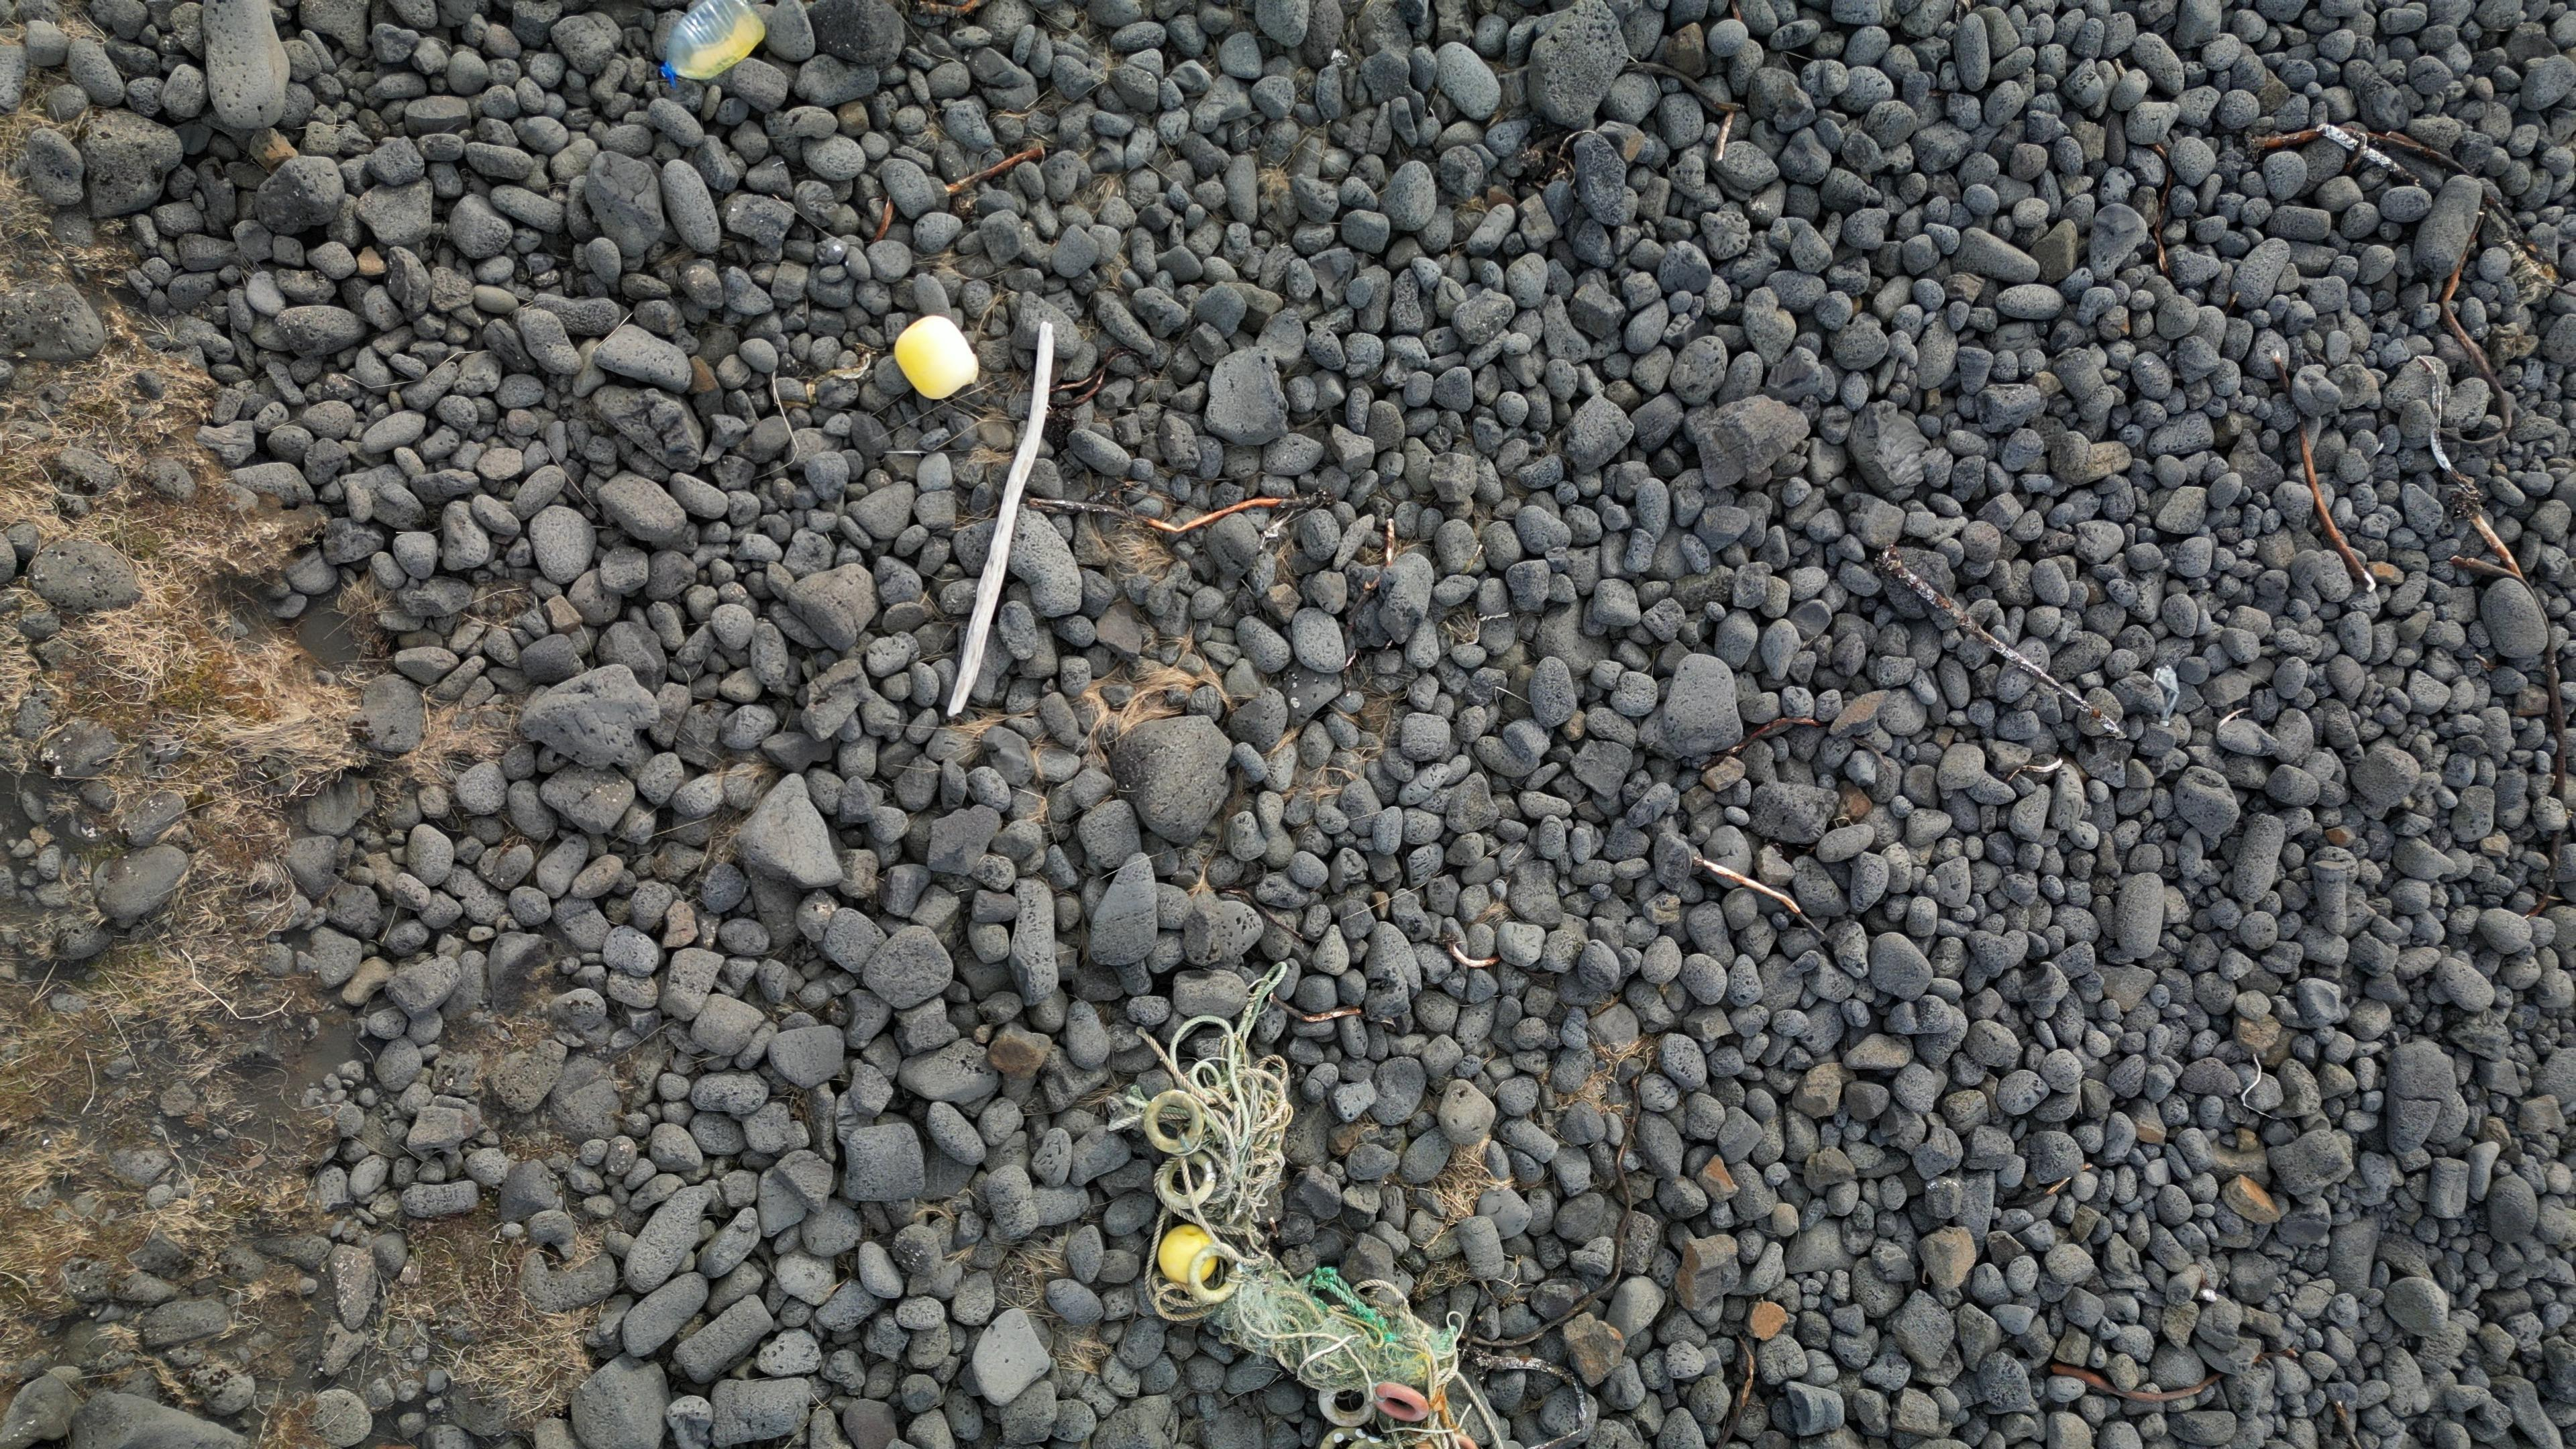trash: (1147, 1032, 1489, 1444), (664, 0, 765, 80), (896, 317, 976, 397)
